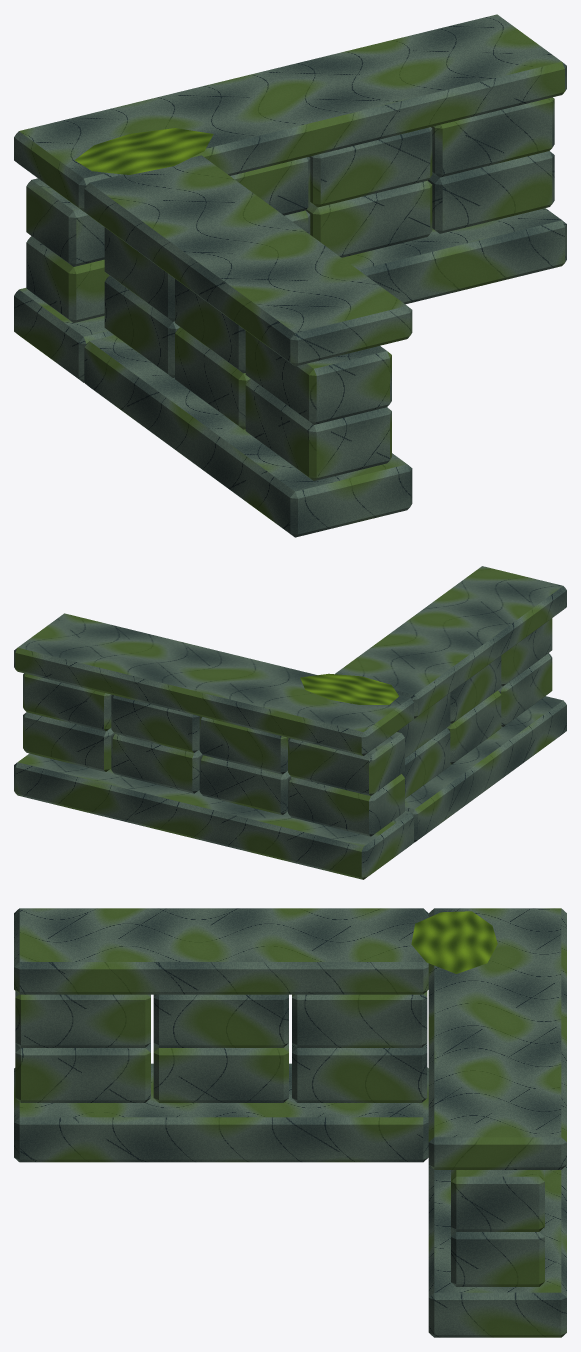
File: temple-parapet-corner.glb
3 views of the same model, one above another, from view 1: azimuth 30°, elevation 25°; view 2: azimuth 150°, elevation 25°; view 3: azimuth 270°, elevation 25° (orthographic). The views are drawn at different scales.
Visible parts, largest first — view 1: temple-parapet-corner_kit-stone, temple-parapet-corner_kit-moss; view 2: temple-parapet-corner_kit-stone, temple-parapet-corner_kit-moss; view 3: temple-parapet-corner_kit-stone, temple-parapet-corner_kit-moss.
Boxes of the visible parts, x1,y1,x2,y2 form: temple-parapet-corner_kit-stone: (14,14,566,537); temple-parapet-corner_kit-moss: (75,128,213,174); temple-parapet-corner_kit-stone: (14,566,566,879); temple-parapet-corner_kit-moss: (300,673,398,704); temple-parapet-corner_kit-stone: (14,908,566,1337); temple-parapet-corner_kit-moss: (411,911,497,973).
Size of the model in its own units: 2 by 0.815 by 2.
Materials: 2 (2 with a texture image).
